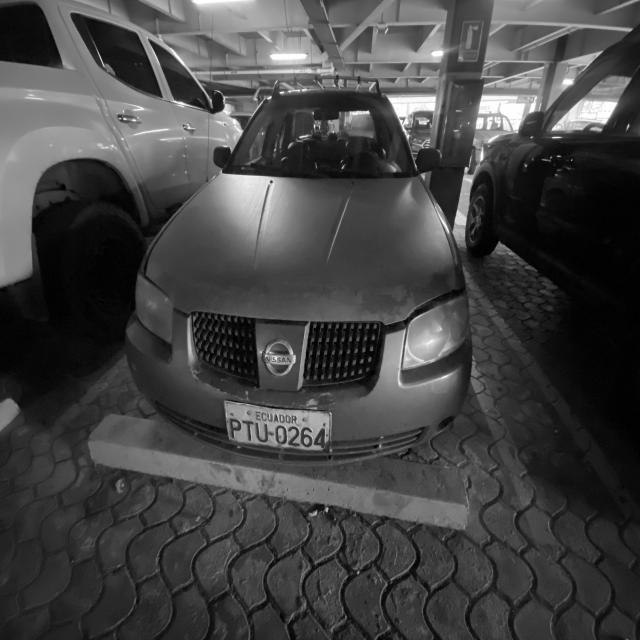Placa: (225, 401, 330, 451)
